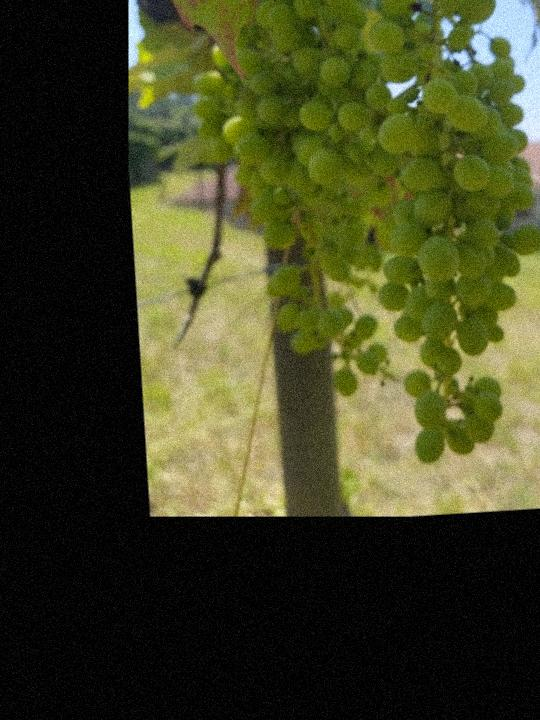grape: (180, 0, 404, 406), (364, 0, 540, 468)
